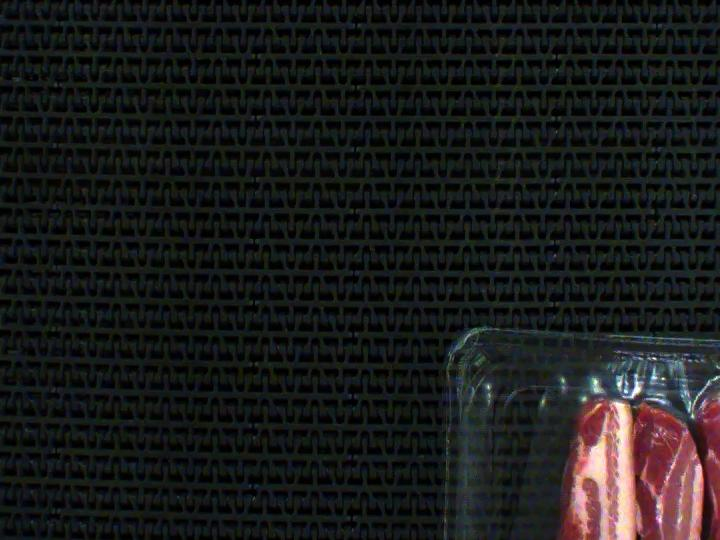unsealed: (518, 356, 720, 465)
